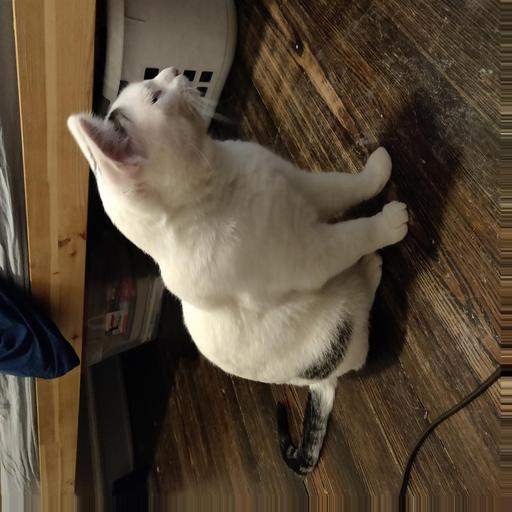cat: (62, 65, 372, 375)
